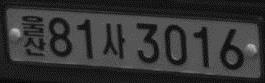0: (163, 23, 188, 65)
1: (76, 18, 94, 60), (192, 26, 210, 68)
3: (135, 21, 161, 64)
6: (219, 27, 245, 70)
8: (47, 16, 73, 56)
사: (101, 21, 125, 60)
울산_V: (21, 13, 47, 58)
